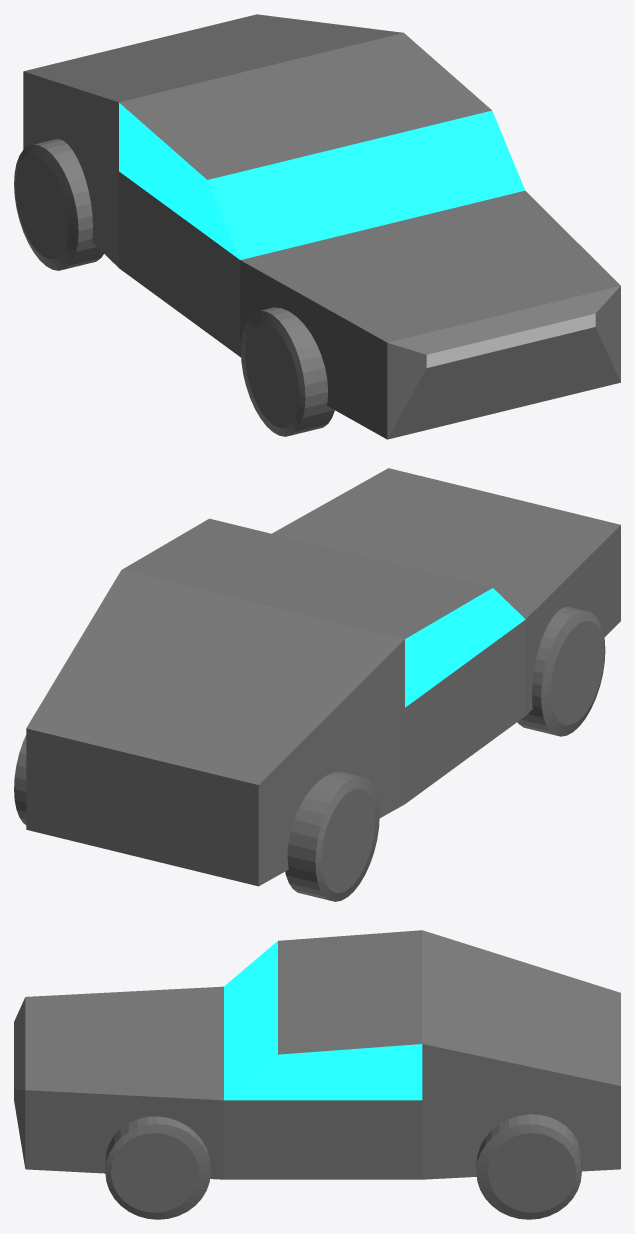
The model's file is Car2_2.fbx.
3 views of the same model, one above another, from view 1: azimuth 30°, elevation 25°; view 2: azimuth 150°, elevation 25°; view 3: azimuth 270°, elevation 25° (orthographic). The views are drawn at different scales.
Visible parts, largest first — view 1: Body, Right_front_Wheel, Right_back_Wheel; view 2: Body, Right_back_Wheel, Right_front_Wheel, Left_back_Wheel; view 3: Body, Left_back_Wheel, Left_front_Wheel.
Part boxes in pixels (x1,y1,x2,y2): Body: (23,14,620,439); Right_front_Wheel: (240,307,334,436); Right_back_Wheel: (14,139,103,270); Body: (26,468,620,886); Right_back_Wheel: (285,771,379,901); Right_front_Wheel: (517,606,605,736); Left_back_Wheel: (14,735,26,824); Body: (14,930,620,1179); Left_back_Wheel: (476,1114,581,1219); Left_front_Wheel: (105,1116,210,1219).
Size of the model in its own units: 419 by 273 by 873.
